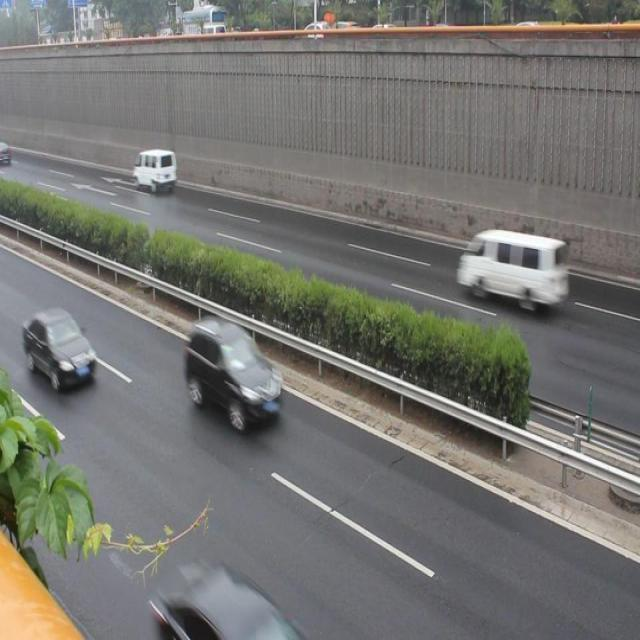car: (184, 312, 286, 431), (24, 300, 100, 396)
truck: (453, 225, 571, 319), (130, 151, 180, 193)
